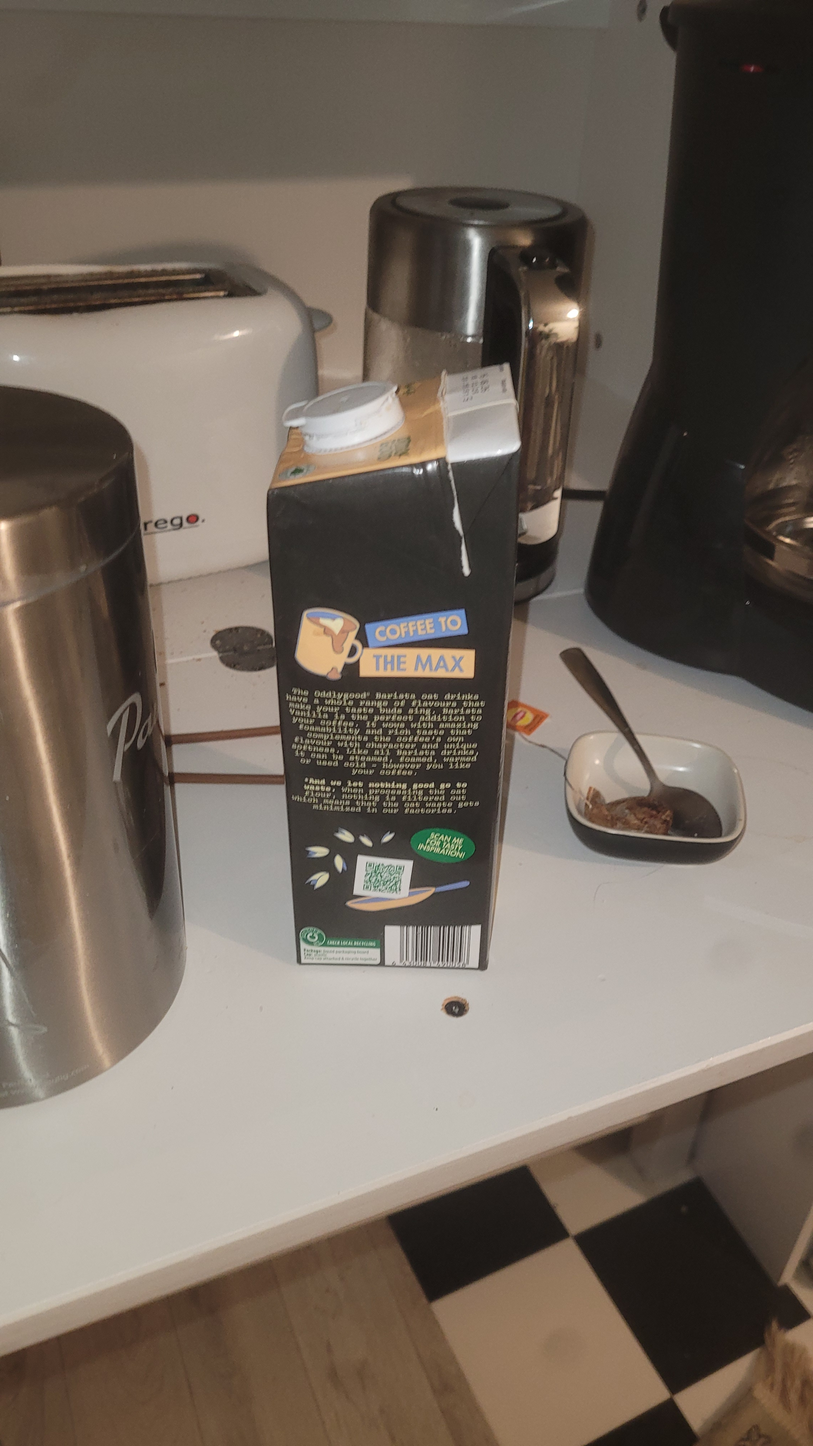Dryckeskartong: (266, 363, 522, 972)
